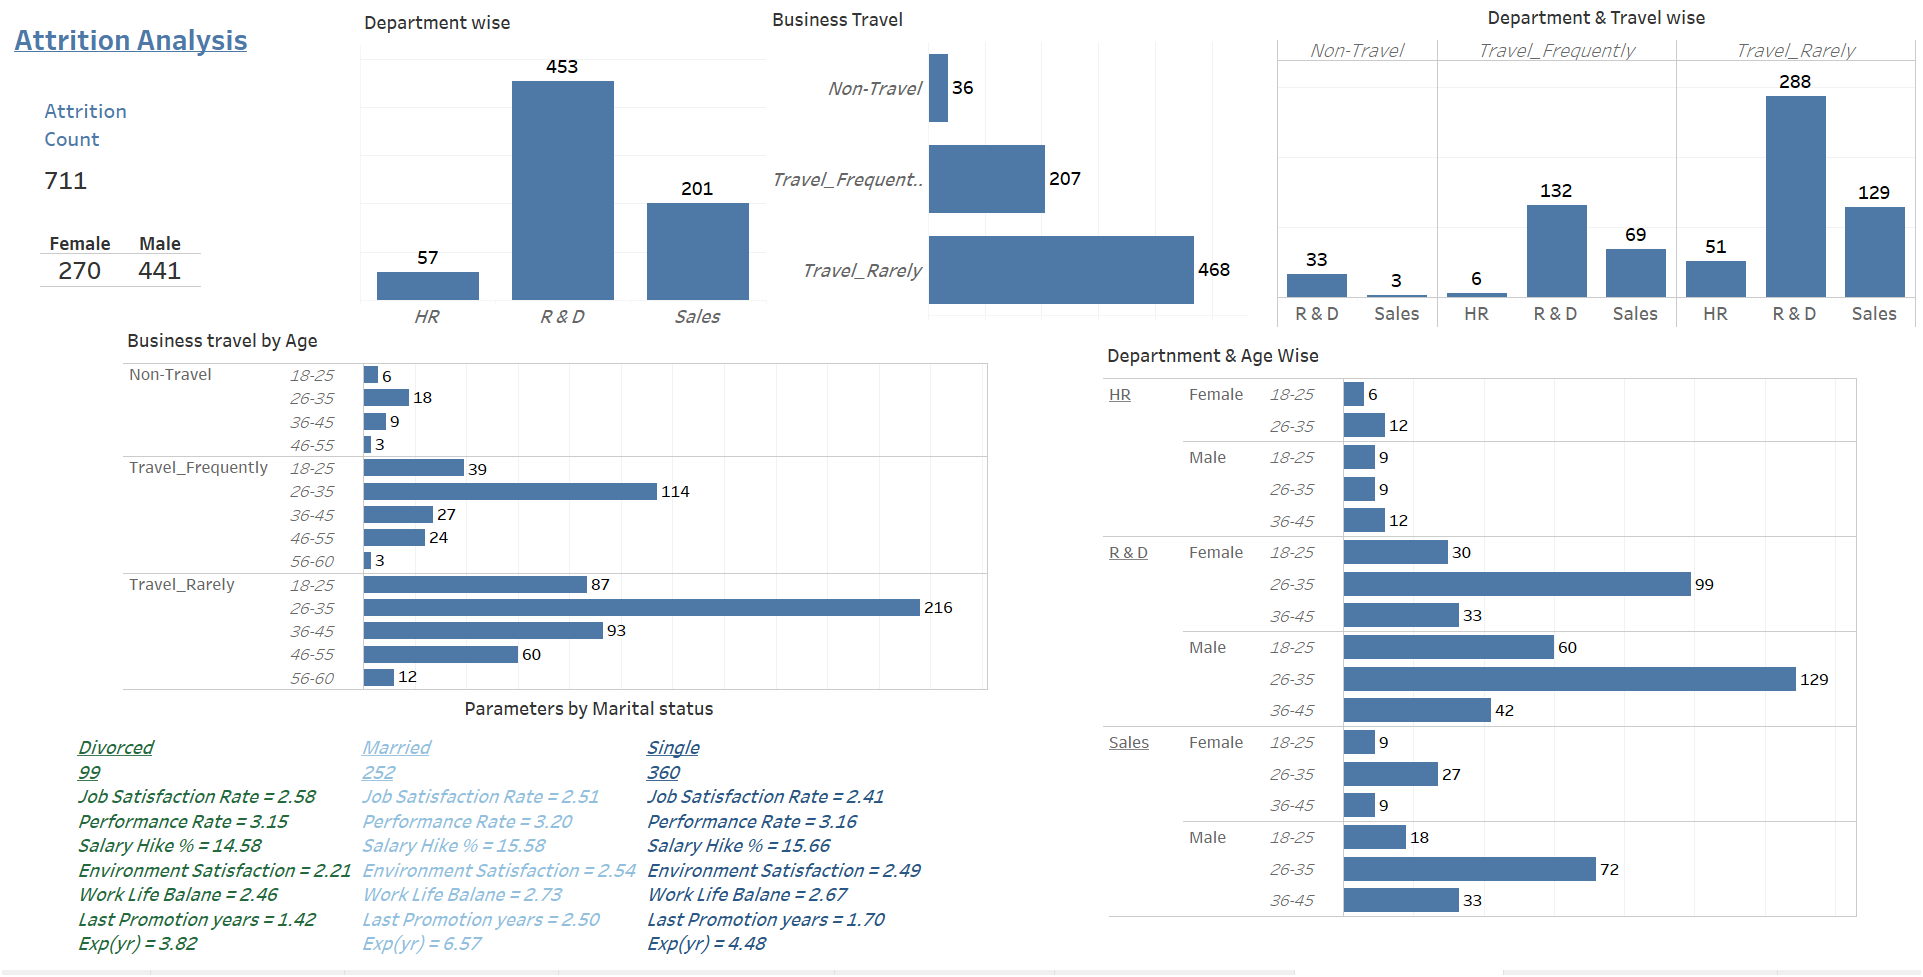

Layout of this report page (visuals, bound fields, positions):
{"tool":"tableau","page":{"name":"Attrition Dashboard","canvas":[1000,1000],"units":"permille","ordinal":0},"visuals":[{"type":"worksheet","title":"Attrition/Dept. & Travel","mark":"Automatic","rows":["EmployeeID"],"cols":["BusinessTravel","Department"],"box":[664,4.9,332.9,336.2]},{"type":"worksheet","title":"Attrition/Business Travel","mark":"Automatic","rows":["BusinessTravel"],"cols":["EmployeeID"],"box":[399,7.3,250,332.5]},{"type":"text","box":[4.4,9.8,147.8,69.7]},{"type":"worksheet","title":"Department/Attrition","mark":"Automatic","rows":["EmployeeID"],"cols":["Department"],"box":[186.4,9.8,212,332.5]},{"type":"worksheet","title":"Attrition Count","mark":"Automatic","box":[19.9,99,158.3,139.4]},{"type":"worksheet","title":"Attrition gender Count","mark":"Automatic","cols":["Gender"],"box":[19.9,244.5,155.9,81.9]},{"type":"worksheet","title":"Attrition/Business travel,Age group,Gender","mark":"Automatic","rows":["Attrition","BusinessTravel","Calculation_1906711522301833217"],"cols":["EmployeeID"],"box":[63,336.2,450.8,376.5]},{"type":"worksheet","title":"Attrition/D,Age,gender","mark":"Automatic","rows":["Department","Gender","Calculation_1906711522301833217"],"cols":["EmployeeID"],"box":[573.6,352.1,392.8,594.1]}]}

Visuals, with their boxes on the dashboard's canvas, which has no fixed pixel size, in thousandths of its width and height (x1, y1, x2, y2). These are canvas units, not pixel positions in the 1923x977 screenshot, which may show the page scaled, cropped or inside an application window:
"Attrition/Dept. & Travel" worksheet: (left=664, top=5, right=997, bottom=341)
"Attrition/Business Travel" worksheet: (left=399, top=7, right=649, bottom=340)
text: (left=4, top=10, right=152, bottom=80)
"Department/Attrition" worksheet: (left=186, top=10, right=398, bottom=342)
"Attrition Count" worksheet: (left=20, top=99, right=178, bottom=238)
"Attrition gender Count" worksheet: (left=20, top=244, right=176, bottom=326)
"Attrition/Business travel,Age group,Gender" worksheet: (left=63, top=336, right=514, bottom=713)
"Attrition/D,Age,gender" worksheet: (left=574, top=352, right=966, bottom=946)
